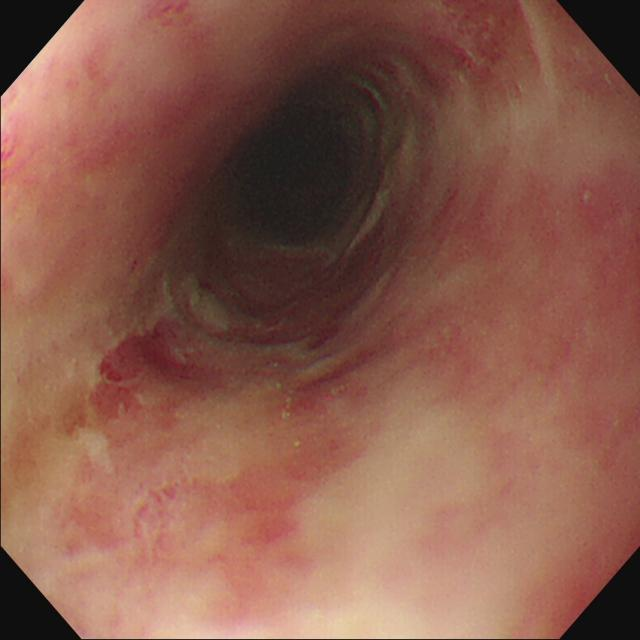A: (420, 2, 544, 96), (429, 169, 522, 263), (300, 346, 400, 393)
C: (100, 323, 176, 384)
E: (233, 108, 351, 248)
J: (186, 286, 234, 333)
